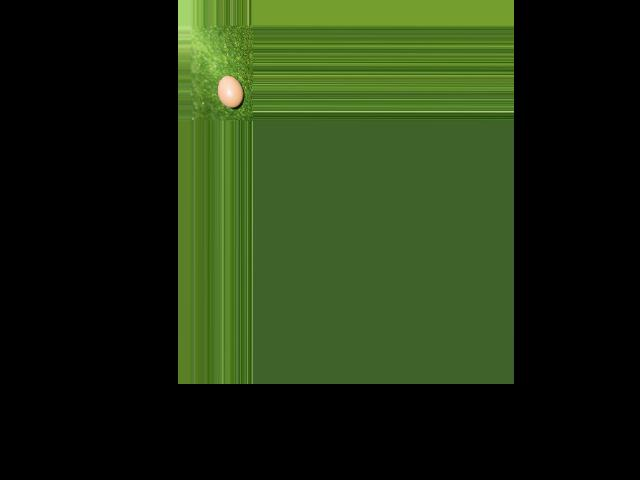egg: (218, 74, 244, 107)
